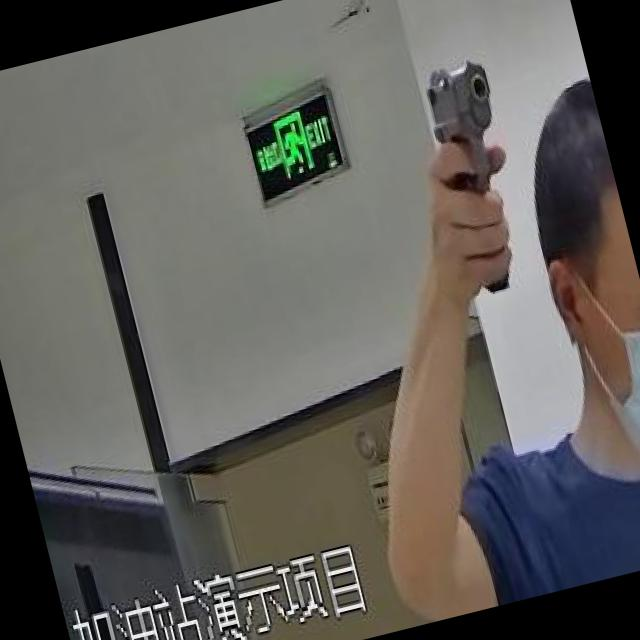Guns: (370, 0, 583, 329)
